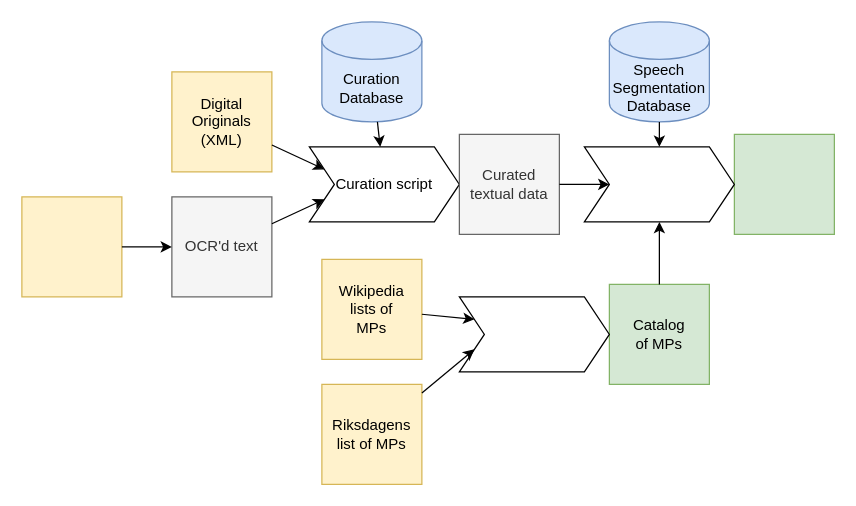
Some shapes in this 856 by 506 pixel diagram are drawn without their labels. The centre of each missing label's shape, as x and y in pixels:
MP data processing script: the point at 533,334
Original Images: the point at 71,246
Speech segmentation script: the point at 658,184
Speeches in ParlaClarin XML: the point at 783,183
